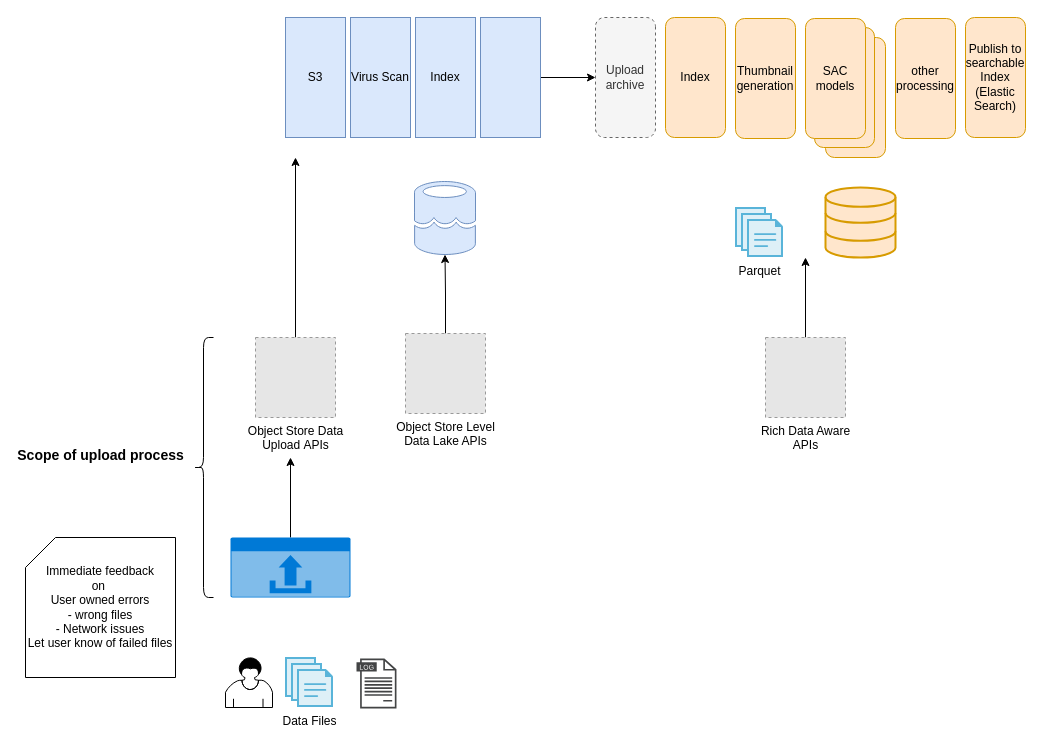
The diagram is 1043 pixels wide and 747 high, and some of its shapes have lost their labels. Grey dashed boxes stand in for pictures. The centre of each missing label's shape, as x and y in pixels:
Annotations: point (376, 683)
Notify subscriber (EAI): point (510, 77)
Object Store Index: point (445, 217)
Rich Data: point (860, 222)
Upload Tool: point (290, 567)
